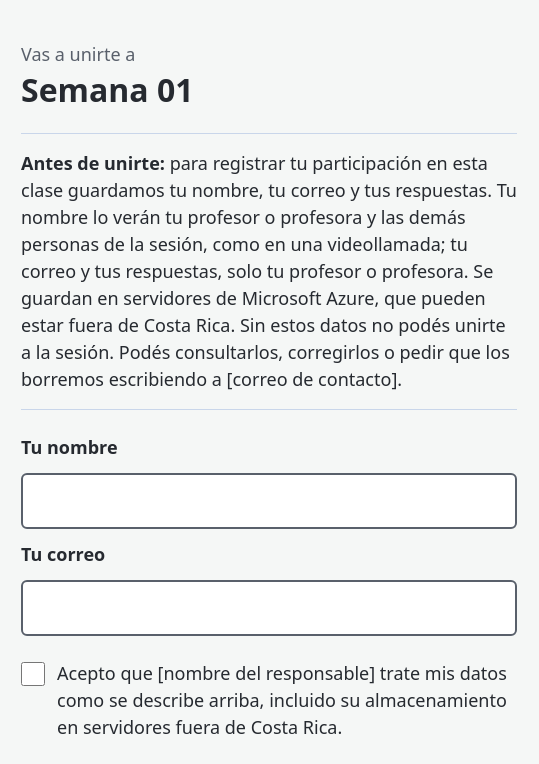
the server refusing with Removed is explained in plain words
Step 1. Type "Ana Mora" into the field labelled "Tu nombre" → x=269, y=501, box x1=21 y1=473 x2=517 y2=529
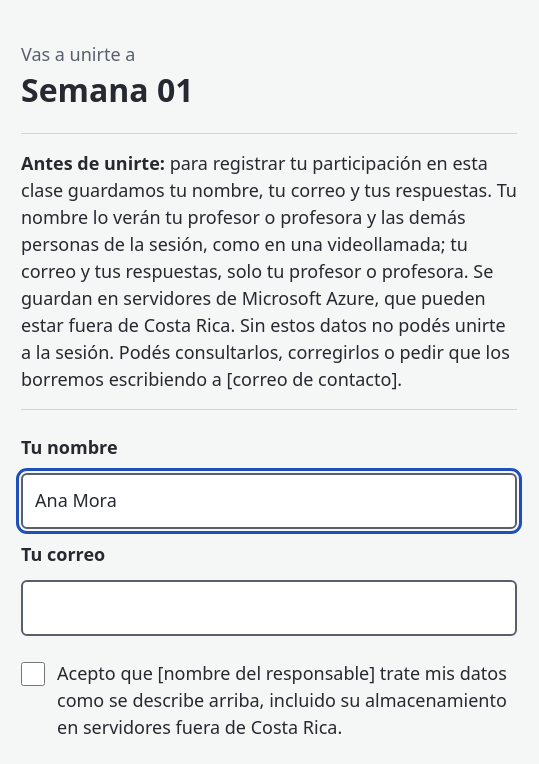
Step 2. Type "ana@example.com" into the field labelled "Tu correo" → x=269, y=608, box x1=21 y1=580 x2=517 y2=636
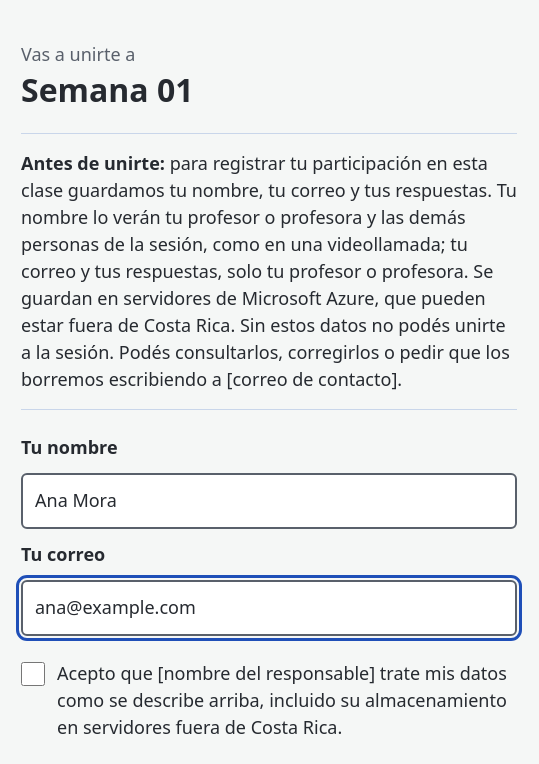
Step 3. Click the checkbox → x=33, y=674, box x1=21 y1=662 x2=45 y2=686
(page scrolled)
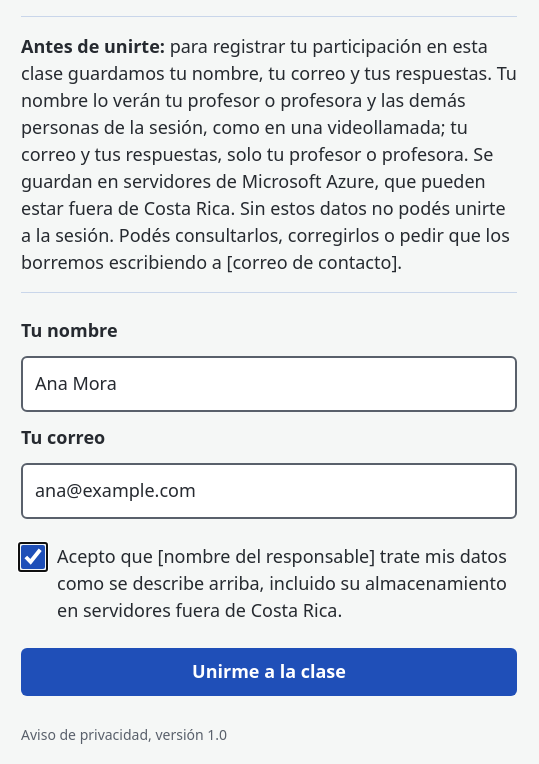
Step 4. Click the button "Unirme a la clase" → x=269, y=672, box x1=21 y1=648 x2=517 y2=696
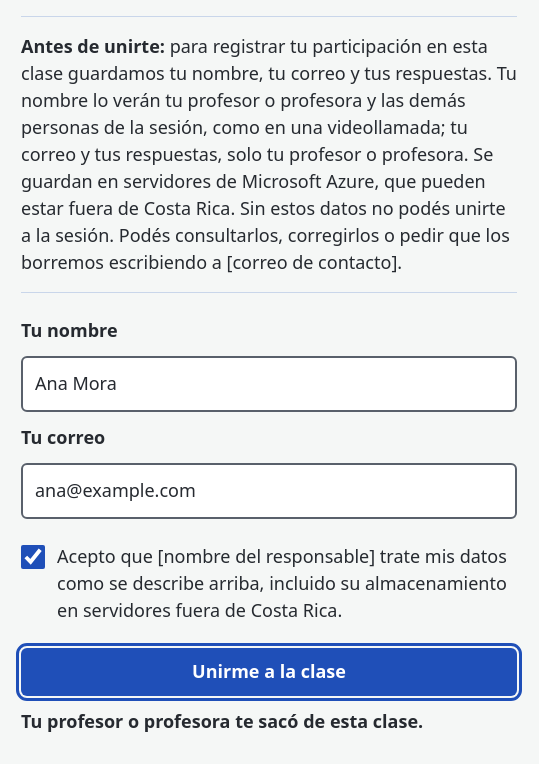
expect the text "Tu profesor o profesora te sacó de esta clase." is shown: met, box x1=21 y1=709 x2=423 y2=733
